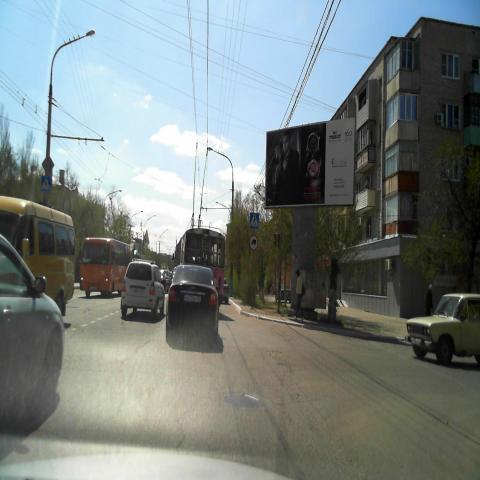3_4_1: (249, 234, 258, 250)
